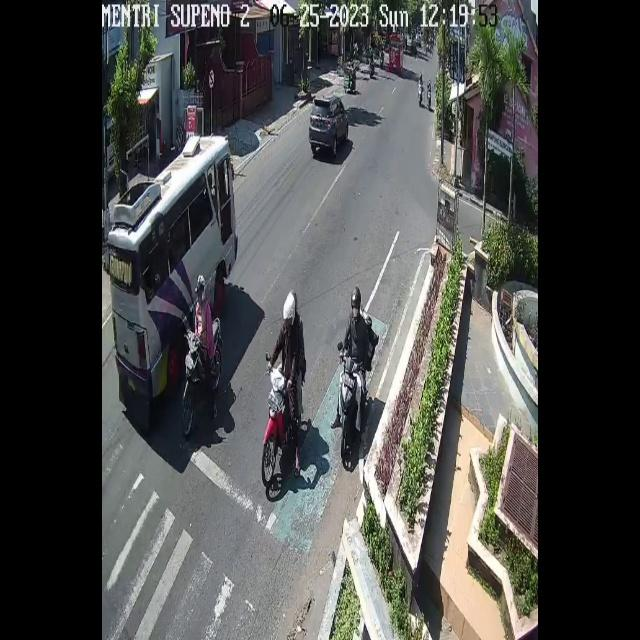bus: (179, 316, 223, 436), (260, 368, 288, 486), (336, 353, 364, 462), (417, 83, 423, 107), (427, 88, 432, 110)
car: (107, 133, 238, 403), (388, 34, 404, 72)
motorcycle: (308, 95, 351, 158)
